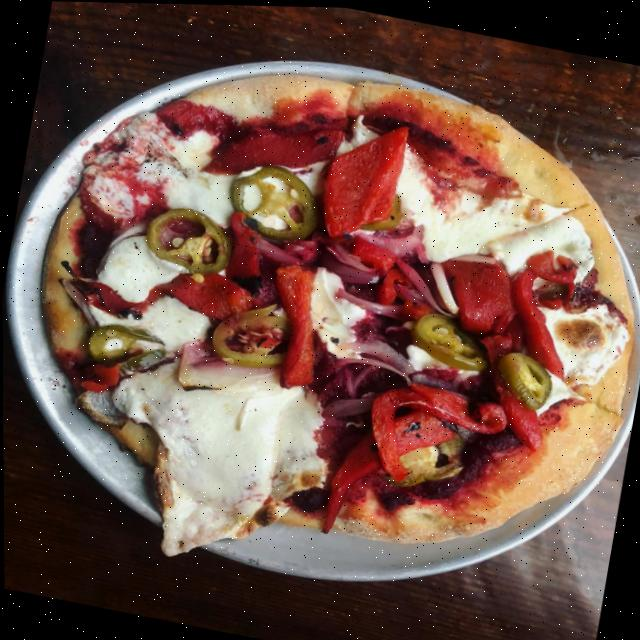pizza: (0, 13, 640, 639)
